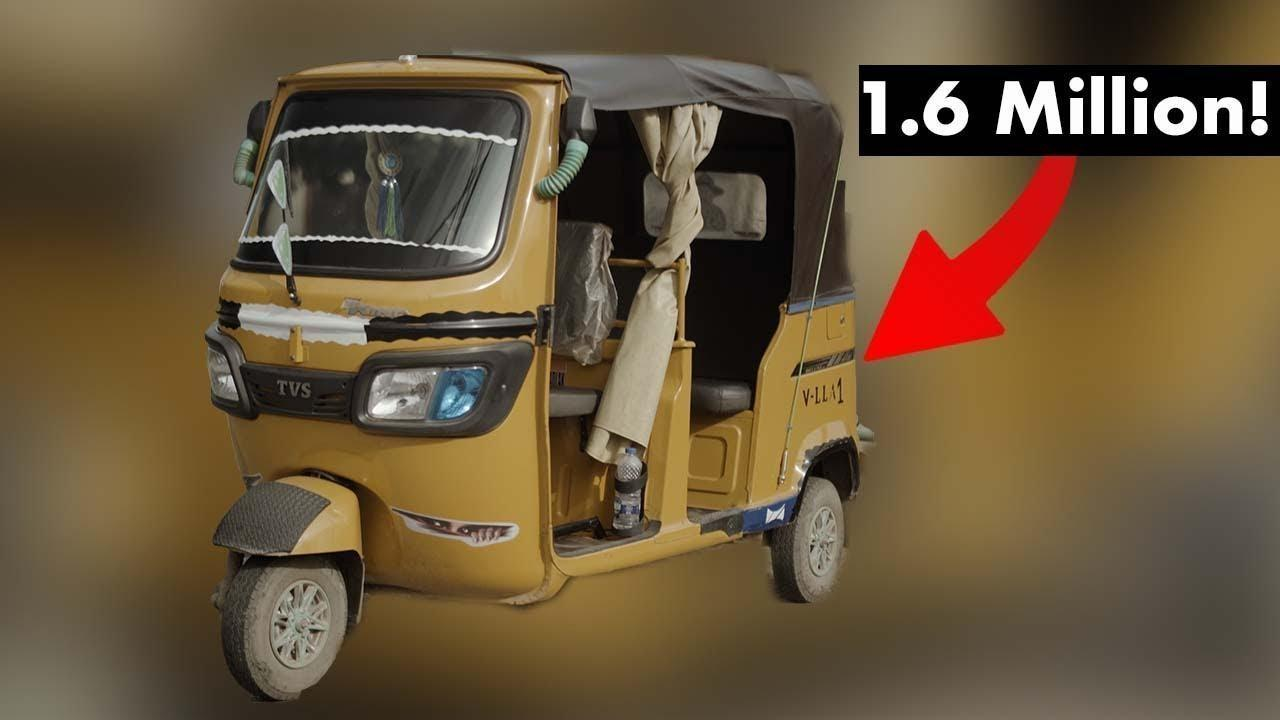keke: (203, 37, 863, 720)
